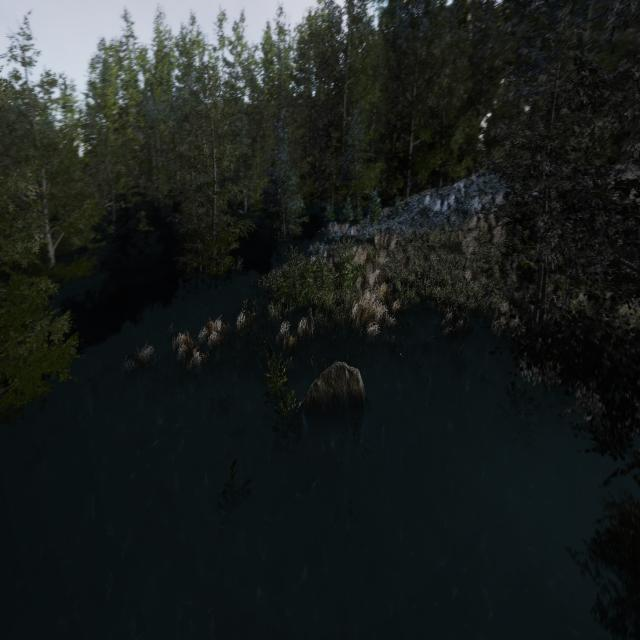Human: (305, 304, 317, 362)
